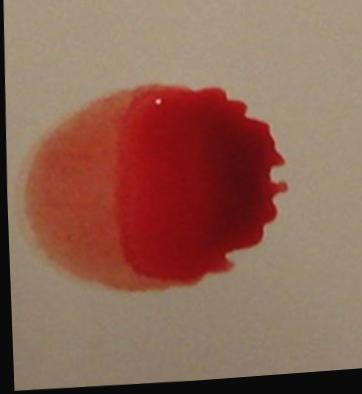Fire: (21, 87, 286, 294)
